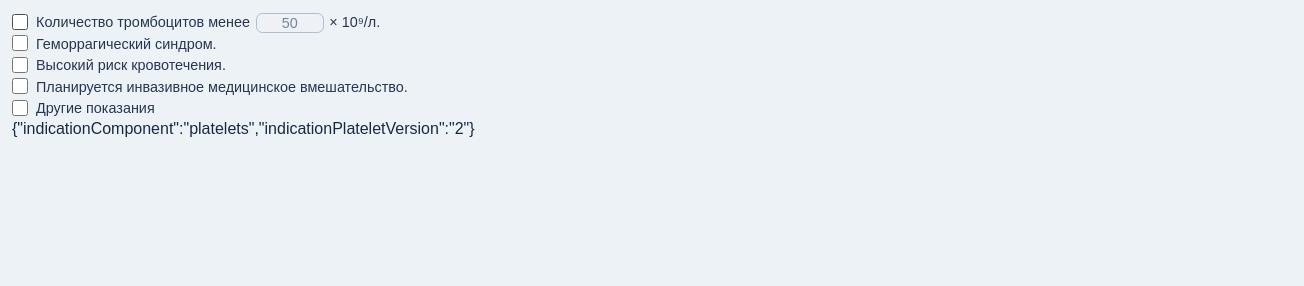
Test: hides the free-text indication when unchecked, retaining the typed text for re-selection
Click the checkbox labelled "Другие показания": [20, 108] box left=12, top=100, right=28, bottom=116
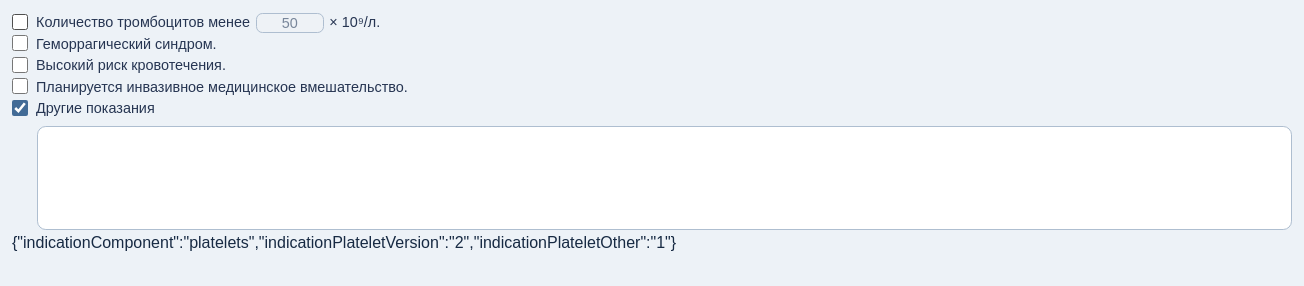
In the text box named "indicationPlateletOtherText": [664, 178] box left=37, top=126, right=1292, bottom=230, type "Дополнительное показание"
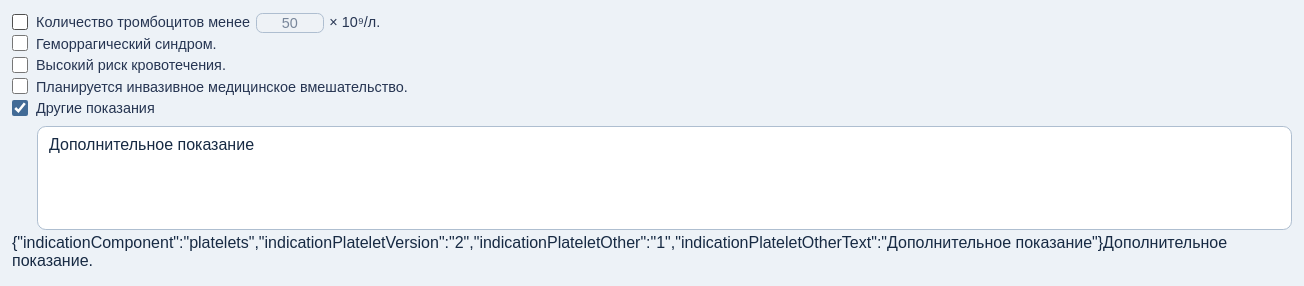
Click the checkbox labelled "Другие показания": [20, 108] box left=12, top=100, right=28, bottom=116
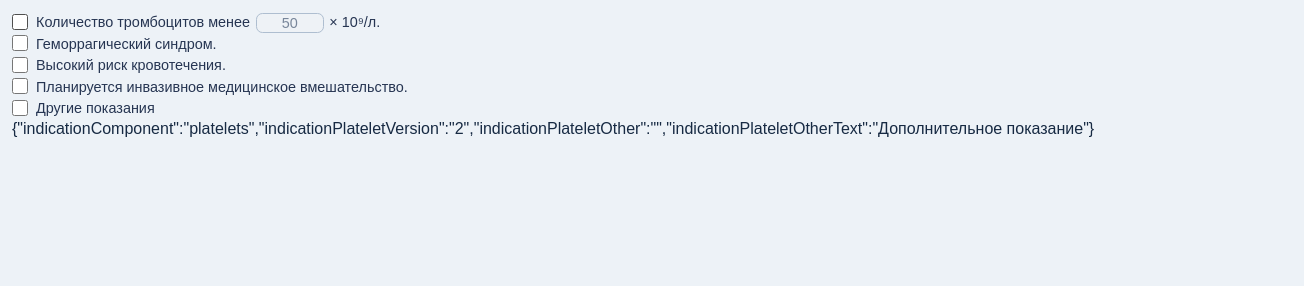
Now the text with test id "stored" shows "Дополнительное показание", box left=12, top=120, right=1094, bottom=137
Now the text box named "indicationPlateletOtherText" is gone
Click the checkbox labelled "Другие показания": [20, 108] box left=12, top=100, right=28, bottom=116
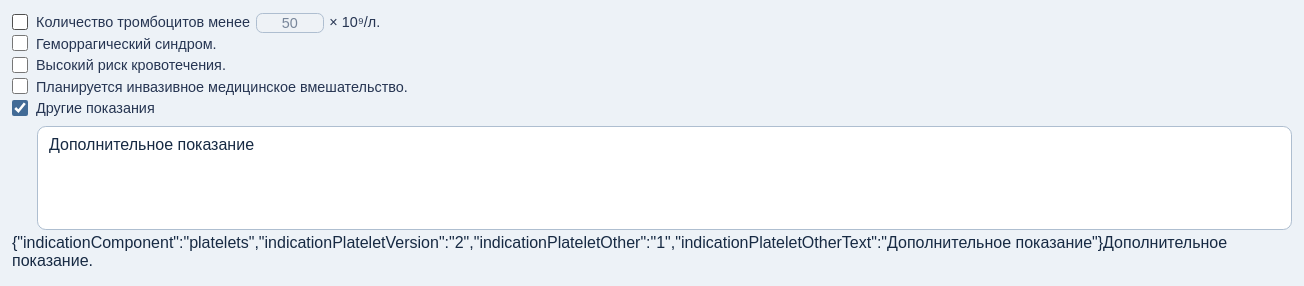
Now the text box named "indicationPlateletOtherText" holds "Дополнительное показание", box left=37, top=126, right=1292, bottom=230
Now the text with test id "printed" reads "Дополнительное показание.", box left=12, top=234, right=1227, bottom=269
